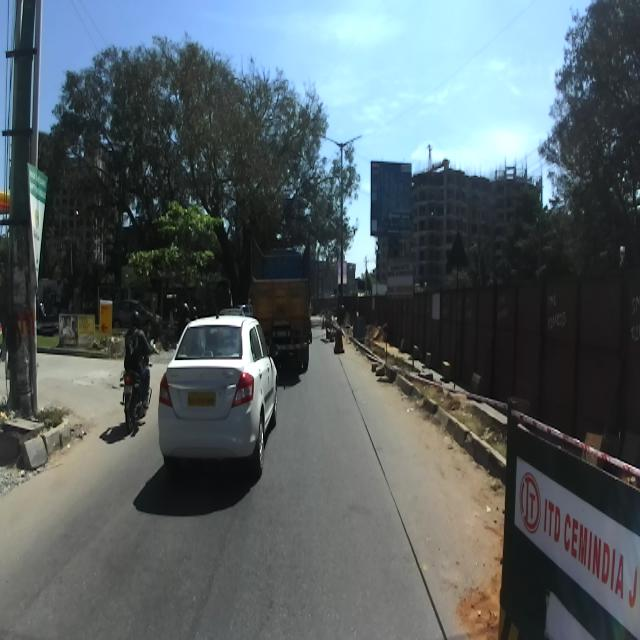car ahead at: (158, 306, 278, 479)
electric pole ahead at: (5, 0, 42, 414)
motorcycle ahead at: (115, 351, 154, 427)
